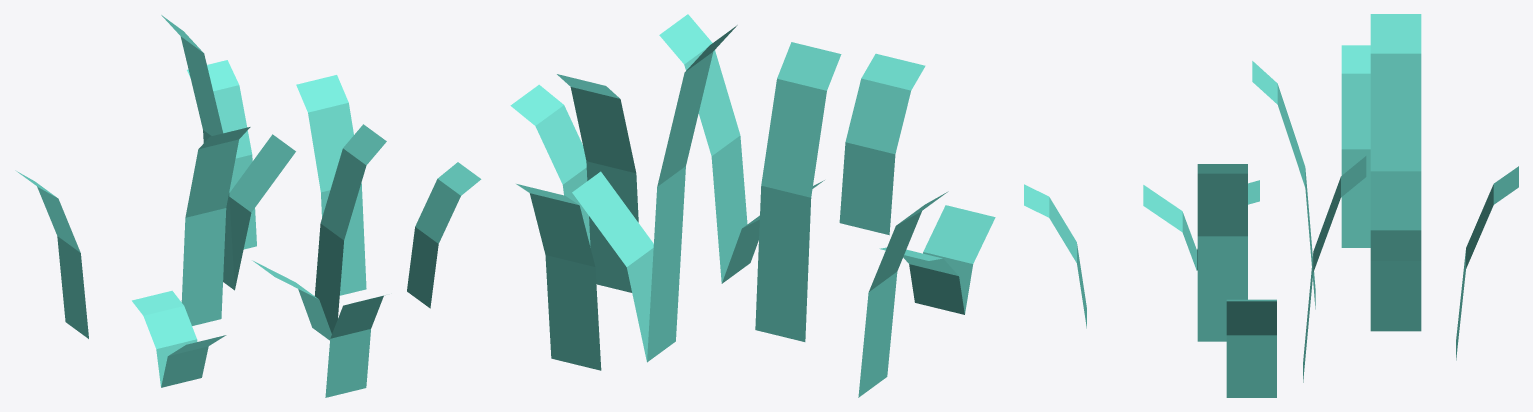
File: grass.gltf
3 views of the same model, side by side, from view 1: azimuth 30°, elevation 25°; view 2: azimuth 150°, elevation 25°; view 3: azimuth 270°, elevation 25° (orthographic). The views are drawn at different scales.
Parts seen in each view (by area): view 1: grass; view 2: grass; view 3: grass.
Boxes of the visible parts, bbox=[...] form: grass: bbox=[15, 15, 481, 397]; grass: bbox=[510, 14, 995, 397]; grass: bbox=[1024, 14, 1518, 397].
Size of the model in its own units: 0.3811 by 0.254 by 0.3922.
